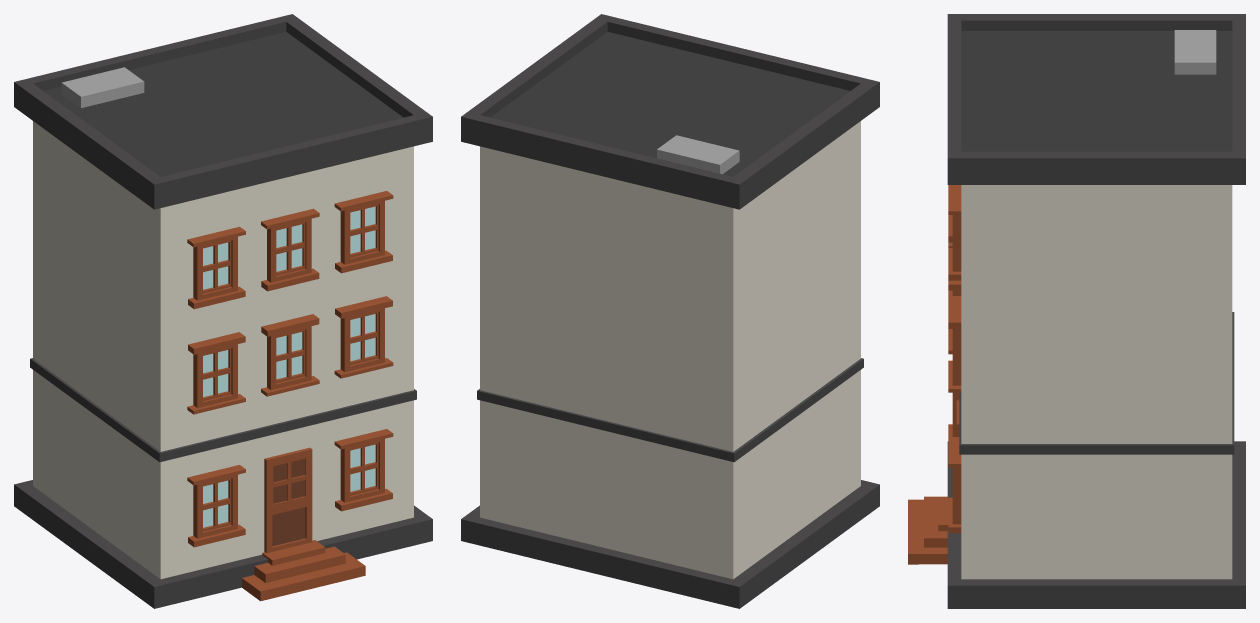
Rendered from flat_a.glb.
3 renders of one model, left to right at view 1: azimuth 30°, elevation 25°; view 2: azimuth 150°, elevation 25°; view 3: azimuth 270°, elevation 25°, orthographic. The views are drawn at different scales.
Parts seen in each view (by area): view 1: flat_a; view 2: flat_a; view 3: flat_a.
Part boxes in pixels (<box>): flat_a: <box>14,14,432,608</box>; flat_a: <box>461,14,879,608</box>; flat_a: <box>908,14,1245,608</box>.
Size of the model in its own units: 2.17 by 3.17 by 2.14.
Materials: 1 (1 with a texture image).
